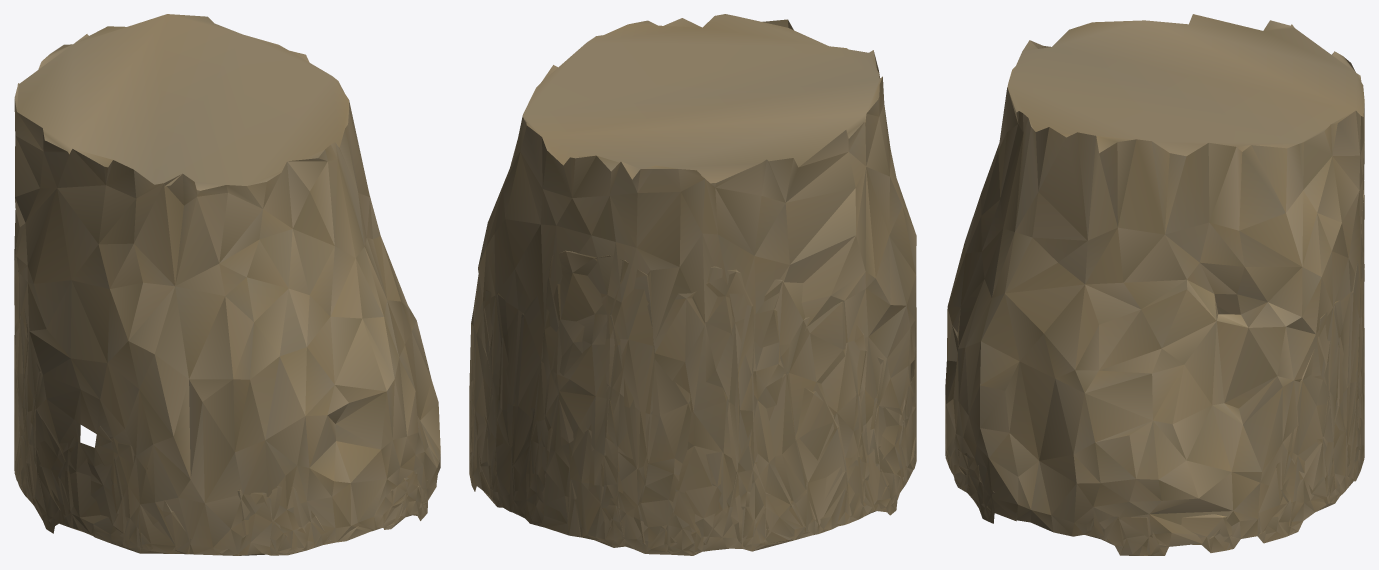
File: palm_stump.glb
3 renders of one model, left to right at view 1: azimuth 30°, elevation 25°; view 2: azimuth 150°, elevation 25°; view 3: azimuth 270°, elevation 25°, orthographic. The views are drawn at different scales.
Parts seen in each view (by area): view 1: Stump; view 2: Stump; view 3: Stump.
Boxes of the visible parts, x1=… form: Stump: x1=14, y1=14, x2=440, y2=555; Stump: x1=469, y1=14, x2=916, y2=555; Stump: x1=945, y1=14, x2=1364, y2=555.
Size of the model in its own units: 0.8 by 0.7947 by 0.8.
